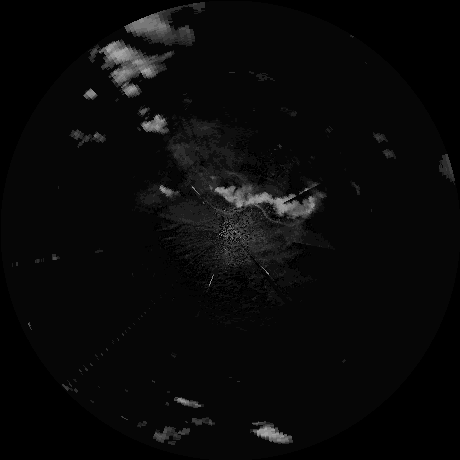frontgust: (252, 205, 301, 226), (206, 200, 244, 215), (229, 172, 251, 184)
